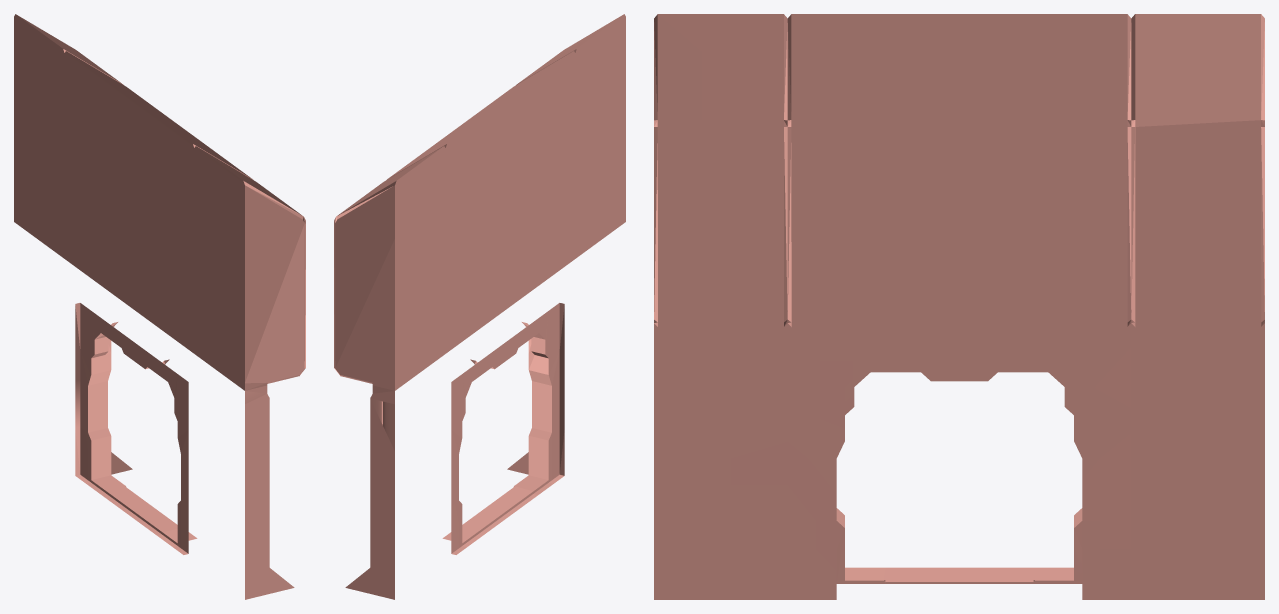
Rendered from uee_stanton_kit_ext_exit_0x8x8_01_reg.glb.
3 renders of one model, left to right at view 1: azimuth 30°, elevation 25°; view 2: azimuth 150°, elevation 25°; view 3: azimuth 270°, elevation 25°, orthographic. The views are drawn at different scales.
Size of the model in its own units: 1.25 by 8 by 8.
